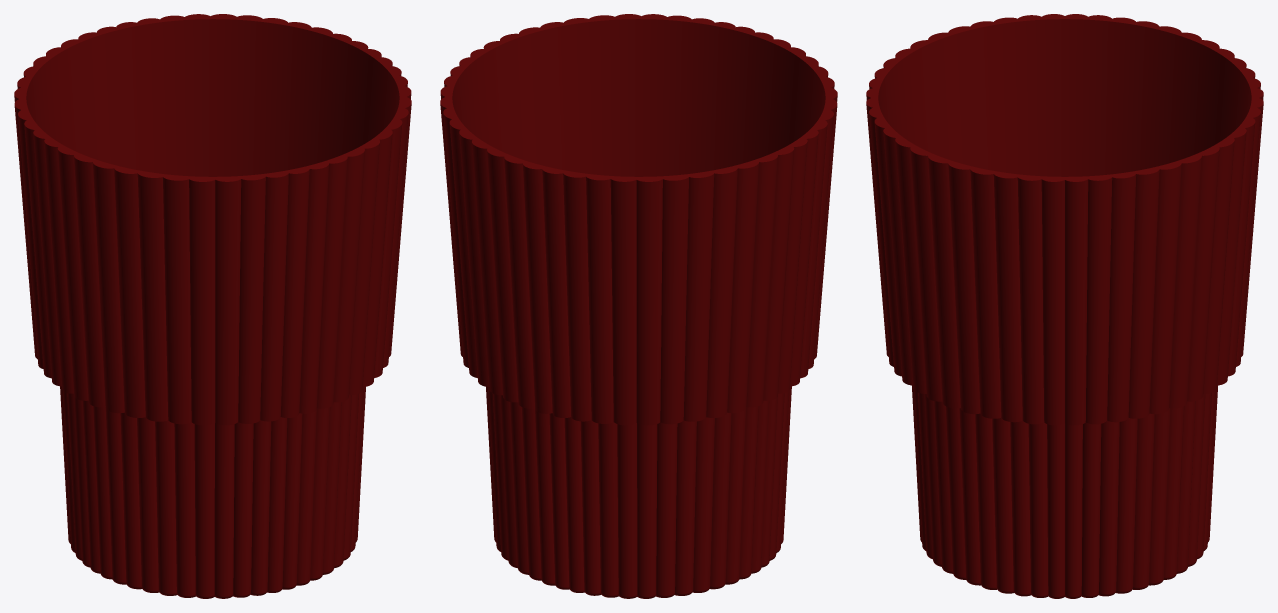
The picture shows the model from 3 angles, left to right: view 1: azimuth 30°, elevation 25°; view 2: azimuth 150°, elevation 25°; view 3: azimuth 270°, elevation 25°; orthographic projection.
Bounding box in the file's own units: 0.0768 × 0.0943 × 0.0768.
